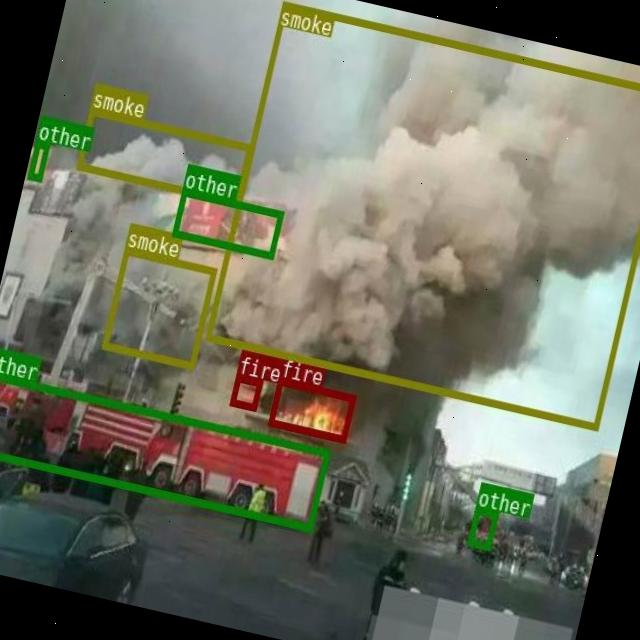fire: (268, 376, 356, 442), (228, 373, 262, 410)
smoke: (204, 0, 640, 428), (75, 106, 251, 205), (101, 245, 216, 368)
